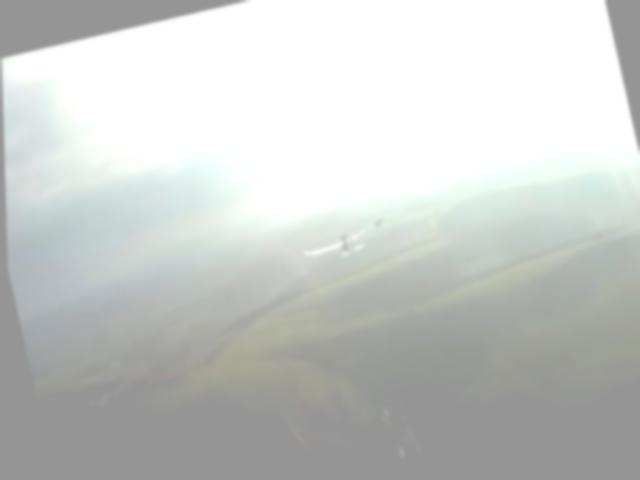iha: (298, 223, 382, 266)
